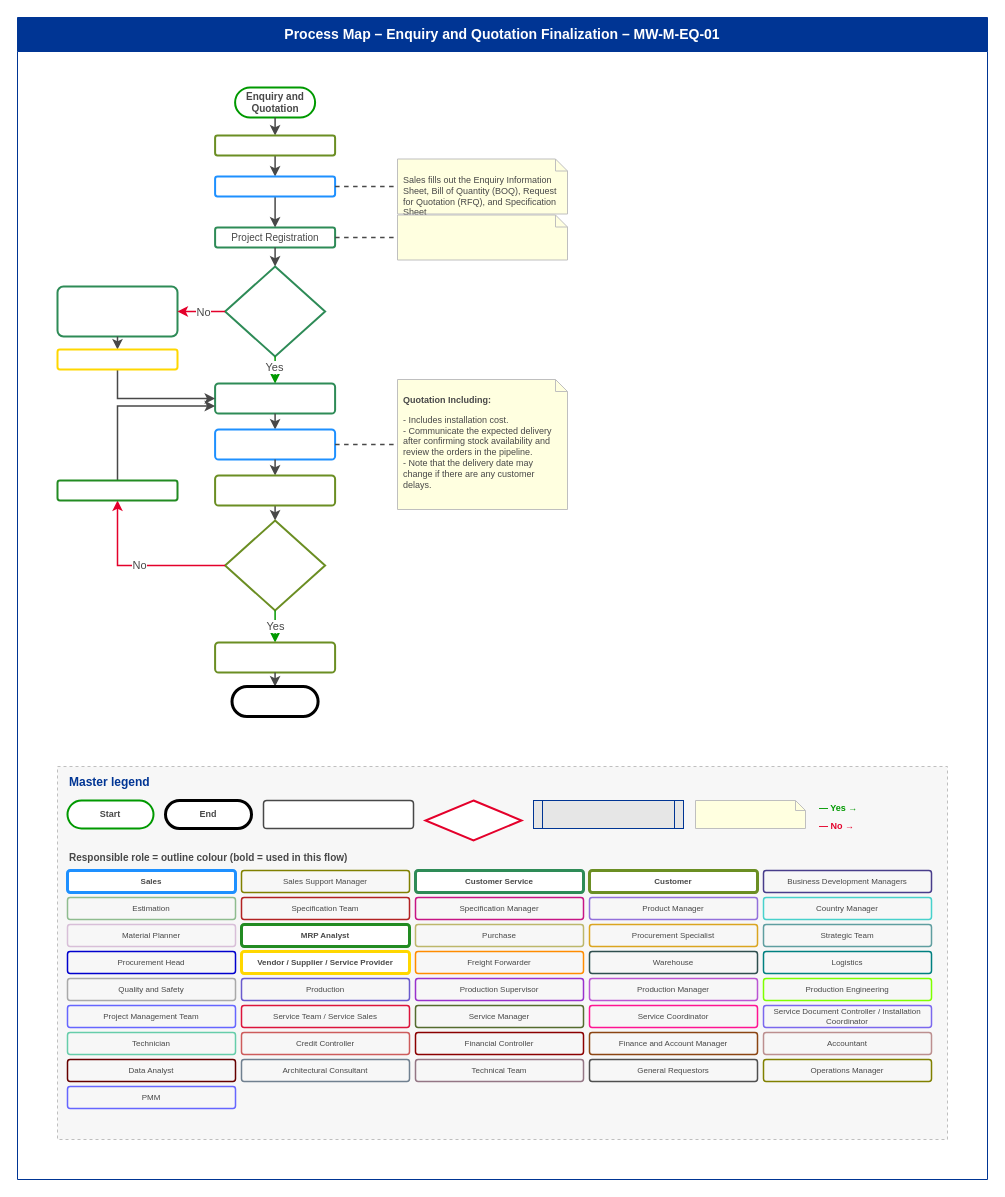
Some shapes in this 1005 by 1197 pixel diagram are drawn without their labels. The centre of each missing label's shape, as x and y in pixels:
"Activity (outline = role)" goes at pixel 338 814.
"Customer Service registers the project and assigns a reference number." goes at pixel 482 237.
"Customer Validation" goes at pixel 275 490.
"Decision" goes at pixel 473 820.
"Equiry for Quotation" goes at pixel 275 145.
"Factory Quotation" goes at pixel 117 359.
"Get Price/Quotation from factory as per specifications, Technical details & BOQ" goes at pixel 117 311.
"Linked process (Ref ID)" goes at pixel 608 814.
"Note / checklist" goes at pixel 750 814.
"Price | Stock Available?" goes at pixel 275 311.
"Quotation Creation" goes at pixel 275 398.
"Quote Approved" goes at pixel 275 565.
"Re-evaluate Quote" goes at pixel 117 490.
"Release LPO /Customer PO" goes at pixel 275 657.
"Sales Documentation" goes at pixel 275 186.
"Sales Order Processing" goes at pixel 274 701.
"Send Quotation" goes at pixel 275 444.
